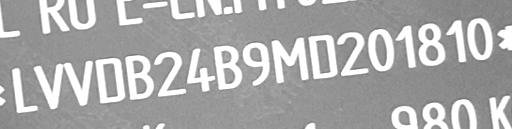letter: (268, 36, 312, 85), (304, 31, 340, 82), (152, 50, 188, 99), (335, 29, 369, 78), (60, 59, 94, 108), (184, 45, 216, 96), (32, 61, 64, 112), (92, 57, 126, 104), (212, 43, 244, 92), (123, 52, 155, 101), (8, 66, 40, 114), (415, 20, 447, 67), (240, 40, 272, 87), (464, 14, 494, 63), (365, 27, 397, 72), (442, 16, 470, 65), (394, 24, 418, 69)
